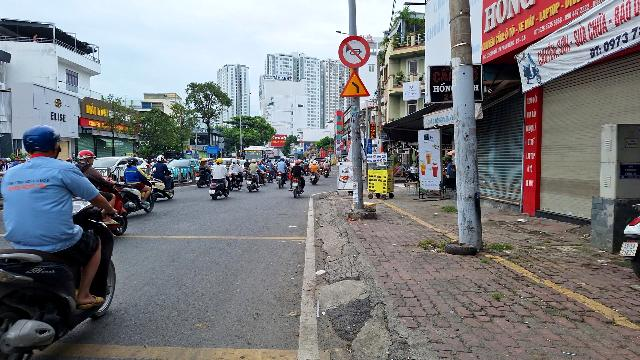cam-bop-coi: (338, 36, 370, 68)
cho-ngoat-nguy-hiem-ben-trai: (339, 69, 370, 97)
